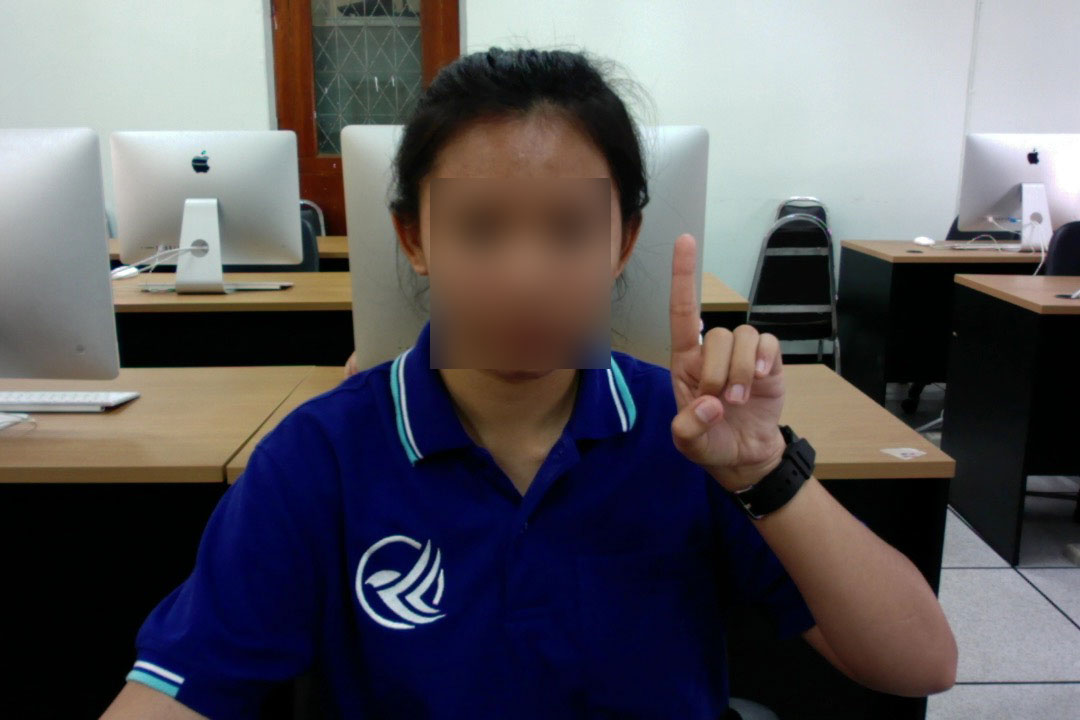dor: (653, 226, 800, 504)
